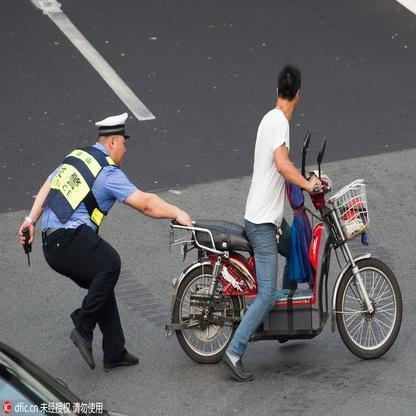target: (167, 63, 403, 369)
